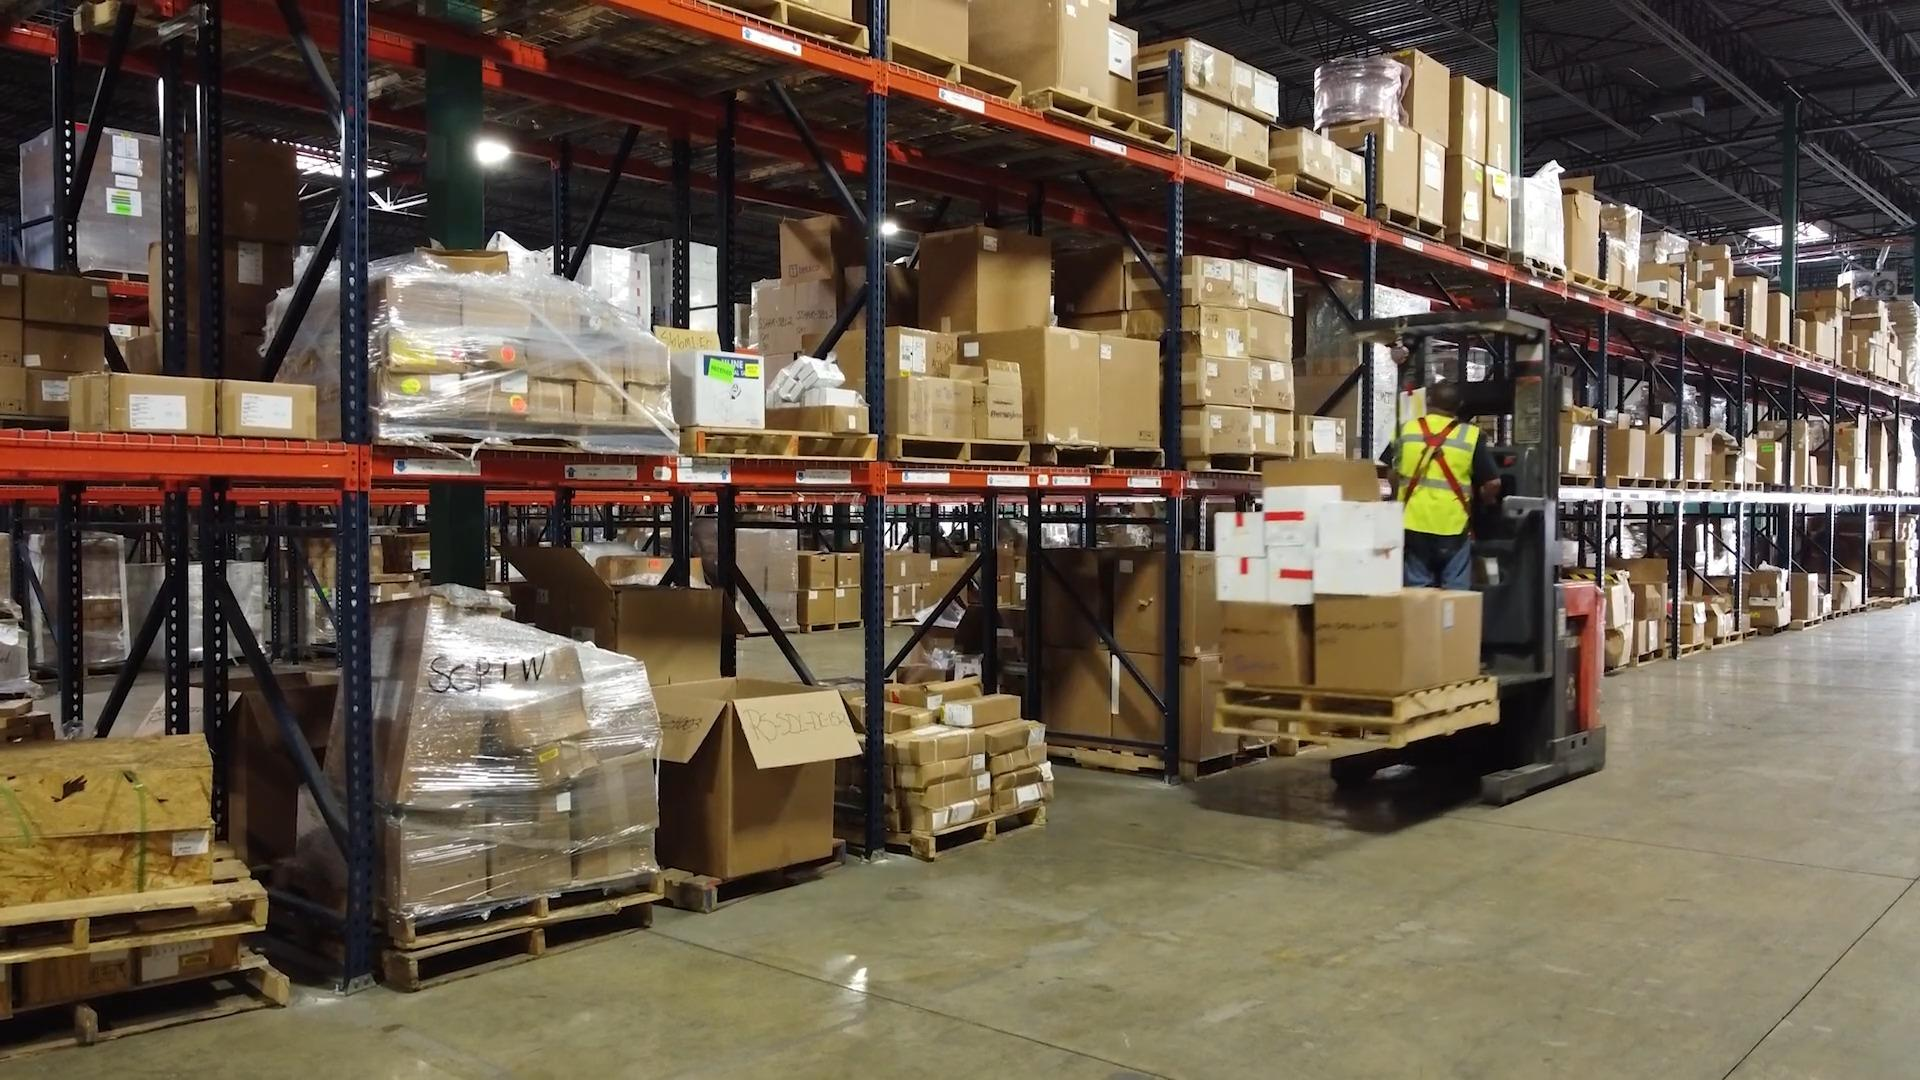-: (661, 674, 860, 874), (960, 327, 1101, 443), (973, 7, 1139, 87), (919, 227, 1050, 327), (1315, 592, 1439, 691), (1117, 547, 1215, 657), (1118, 649, 1218, 749), (76, 371, 215, 436), (1319, 500, 1403, 596), (1217, 601, 1309, 687), (1007, 61, 1139, 120), (1338, 123, 1418, 220), (1039, 547, 1110, 649), (1101, 335, 1160, 448), (1042, 646, 1114, 737), (1127, 258, 1251, 310), (220, 378, 319, 438), (1129, 309, 1247, 357), (1147, 95, 1234, 160), (1146, 37, 1233, 100), (885, 376, 975, 436), (760, 285, 837, 351), (1159, 355, 1251, 406), (952, 375, 1023, 438), (1262, 487, 1345, 539), (1270, 127, 1337, 186), (1435, 592, 1480, 679), (782, 218, 840, 284), (885, 327, 955, 376), (1561, 187, 1598, 278), (1412, 59, 1451, 146), (1183, 407, 1253, 454), (1229, 112, 1273, 175), (1236, 59, 1278, 124), (1456, 73, 1486, 161), (766, 407, 872, 433), (1270, 542, 1313, 603), (1456, 161, 1486, 245), (1247, 357, 1295, 410), (1216, 556, 1269, 604), (1245, 260, 1291, 313), (1419, 136, 1445, 227), (1247, 310, 1292, 363), (1216, 513, 1266, 559), (1485, 88, 1511, 175), (1482, 174, 1511, 248), (1253, 407, 1295, 455), (1563, 422, 1598, 475), (1335, 142, 1366, 202), (1607, 429, 1646, 477), (927, 558, 967, 603), (1614, 556, 1668, 583), (1646, 434, 1676, 479), (885, 553, 931, 582), (798, 554, 835, 589), (798, 589, 835, 622), (1749, 597, 1789, 626), (1792, 572, 1818, 617), (1633, 584, 1667, 618), (1756, 440, 1782, 484), (1606, 585, 1631, 628), (1684, 436, 1706, 479), (1635, 620, 1664, 651), (1750, 571, 1783, 599), (885, 585, 914, 616), (835, 588, 861, 621), (835, 554, 860, 588), (1706, 612, 1733, 634), (1681, 603, 1705, 625), (1680, 624, 1705, 642)
